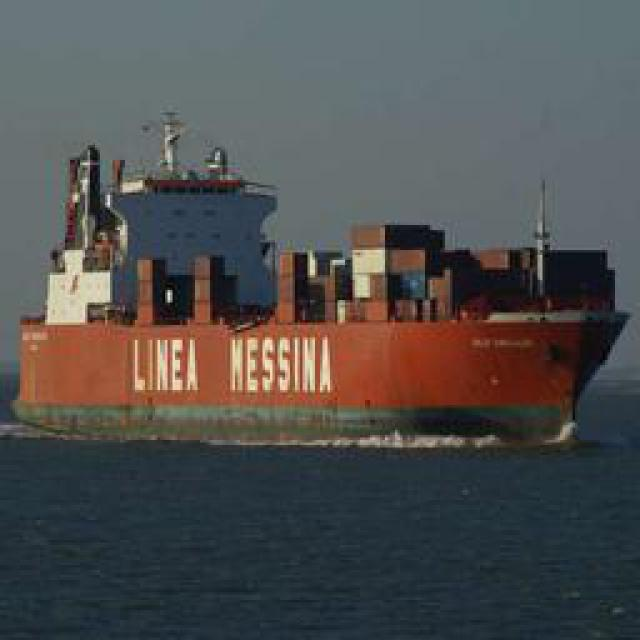Ship: (22, 121, 625, 454)
